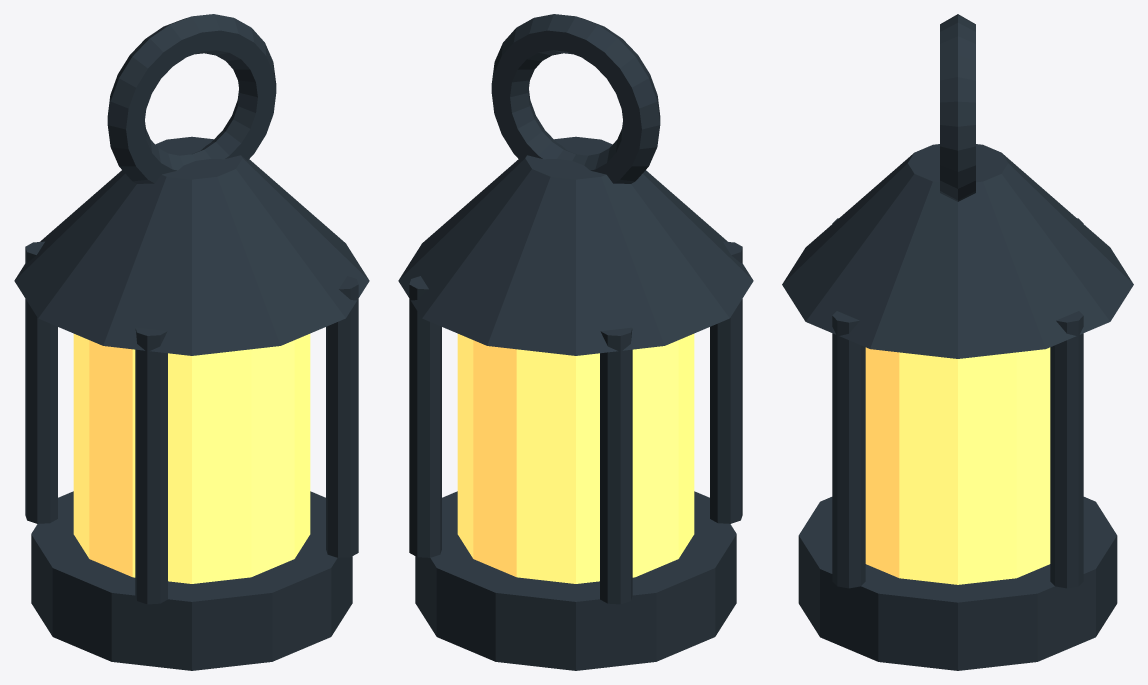
Rendered from north-pole-village-warm-lantern-47146c39__25421.glb.
3 views of the same model, side by side, from view 1: azimuth 30°, elevation 25°; view 2: azimuth 150°, elevation 25°; view 3: azimuth 270°, elevation 25° (orthographic).
Parts seen in each view (by area): view 1: warm-lantern; view 2: warm-lantern; view 3: warm-lantern.
Part boxes in pixels (x1=…): warm-lantern: x1=14, y1=14, x2=369, y2=670; warm-lantern: x1=398, y1=14, x2=753, y2=670; warm-lantern: x1=782, y1=14, x2=1133, y2=670.
Size of the model in its own units: 0.42 by 0.765 by 0.42.
